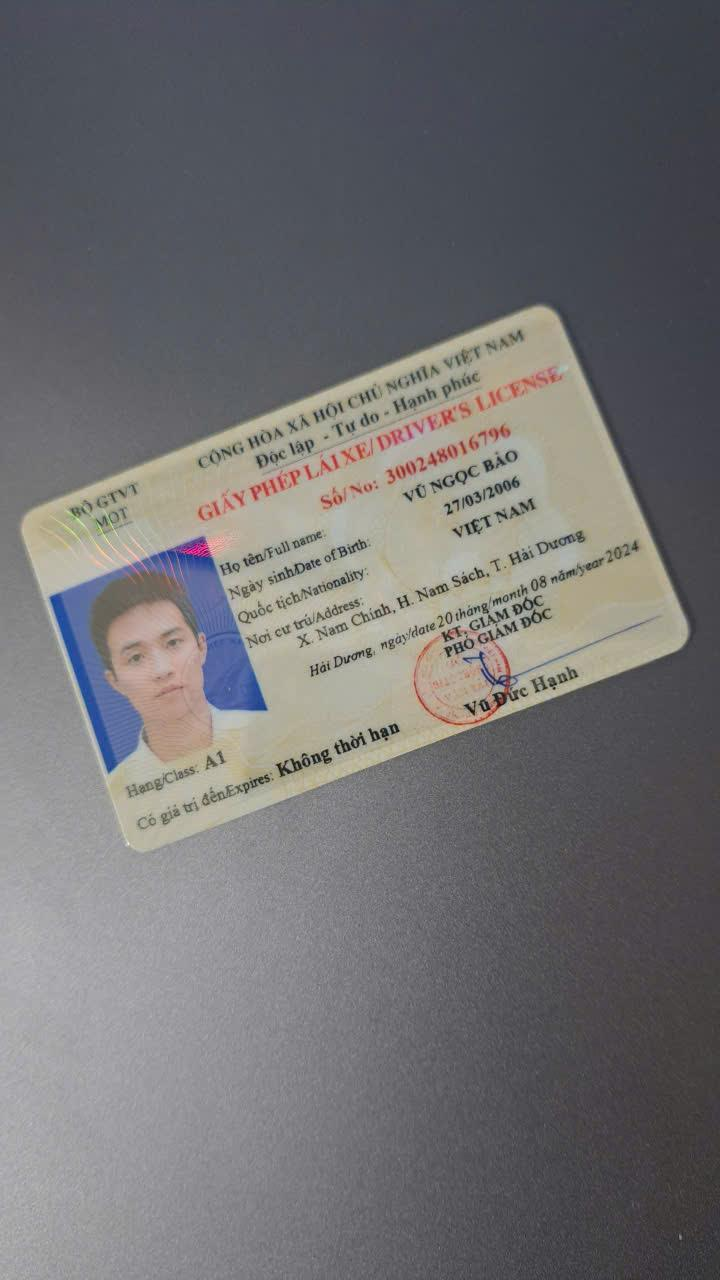gplx: (14, 291, 708, 857)
